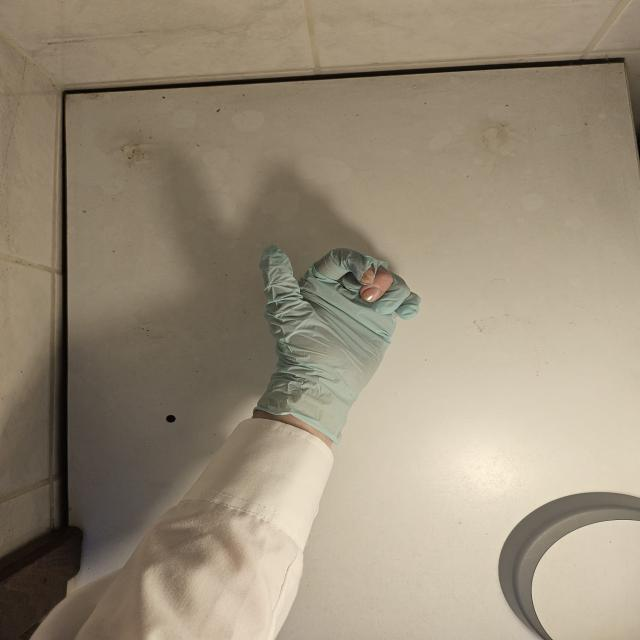gloves_damaged: (252, 238, 419, 447)
